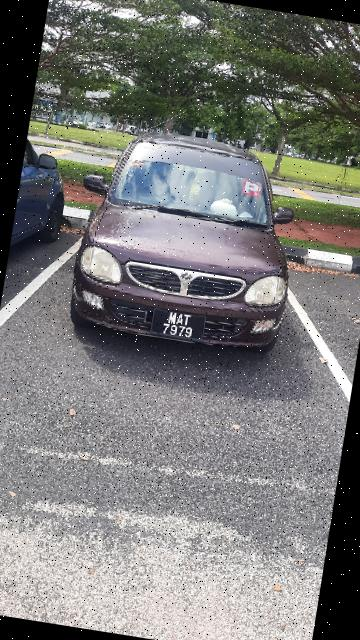License_Plate: (154, 305, 216, 353)
car: (62, 119, 311, 373)
